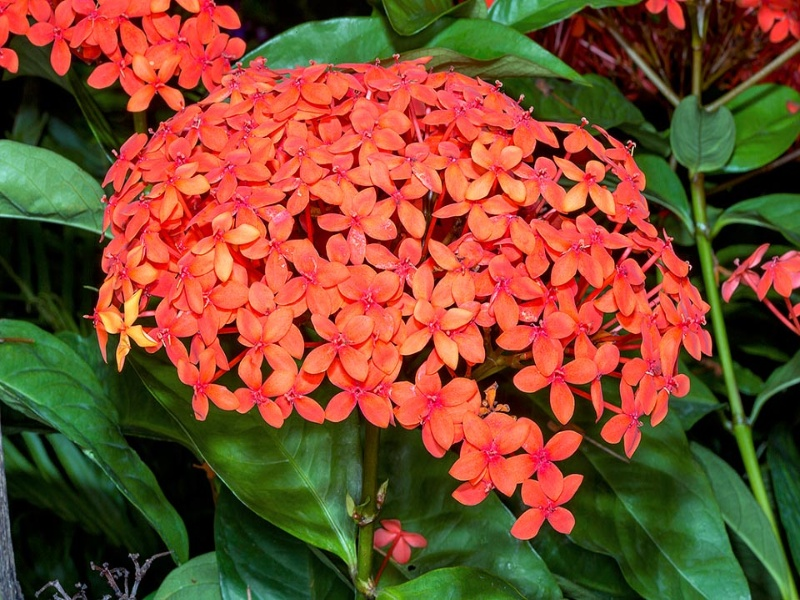Ixora: (72, 52, 726, 546)
